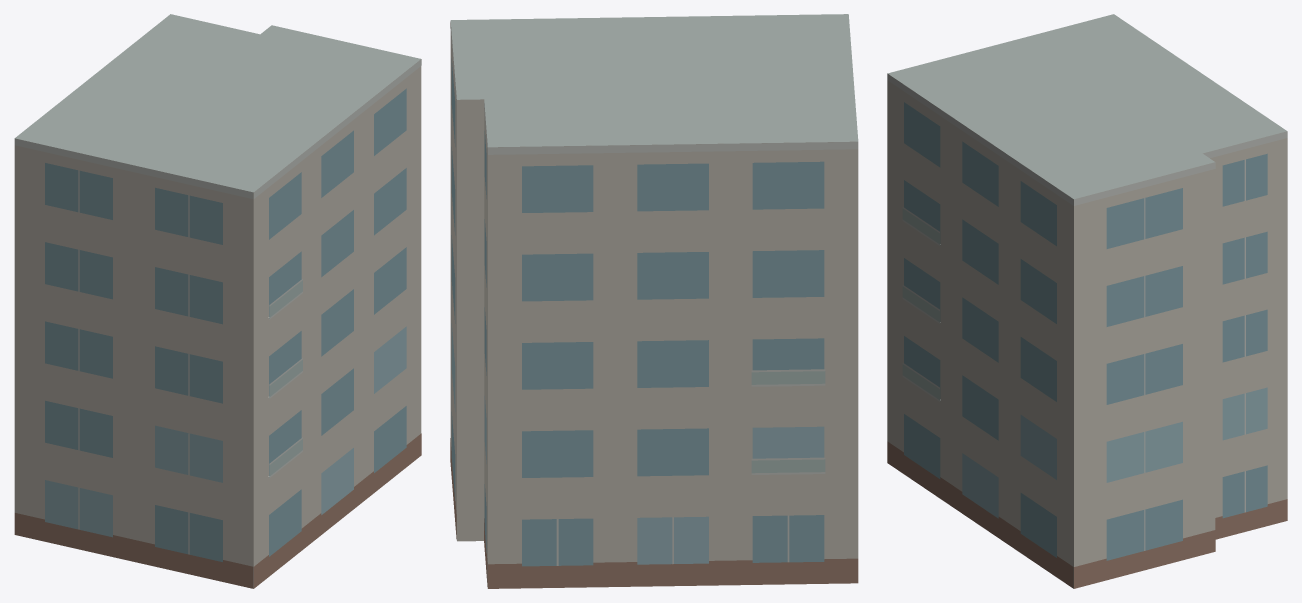
Rendered from survey-upis-33031682.glb.
3 renders of one model, left to right at view 1: azimuth 30°, elevation 25°; view 2: azimuth 150°, elevation 25°; view 3: azimuth 270°, elevation 25°, orthographic. The views are drawn at different scales.
Parts seen in each view (by area): view 1: survey-upis-33031682.tmp; view 2: survey-upis-33031682.tmp; view 3: survey-upis-33031682.tmp.
Boxes of the visible parts, bbox=[...] form: survey-upis-33031682.tmp: bbox=[14, 14, 421, 588]; survey-upis-33031682.tmp: bbox=[450, 14, 858, 588]; survey-upis-33031682.tmp: bbox=[887, 14, 1287, 588].
Bounding box in the file's own units: 14.39 × 14.1 × 13.13.
